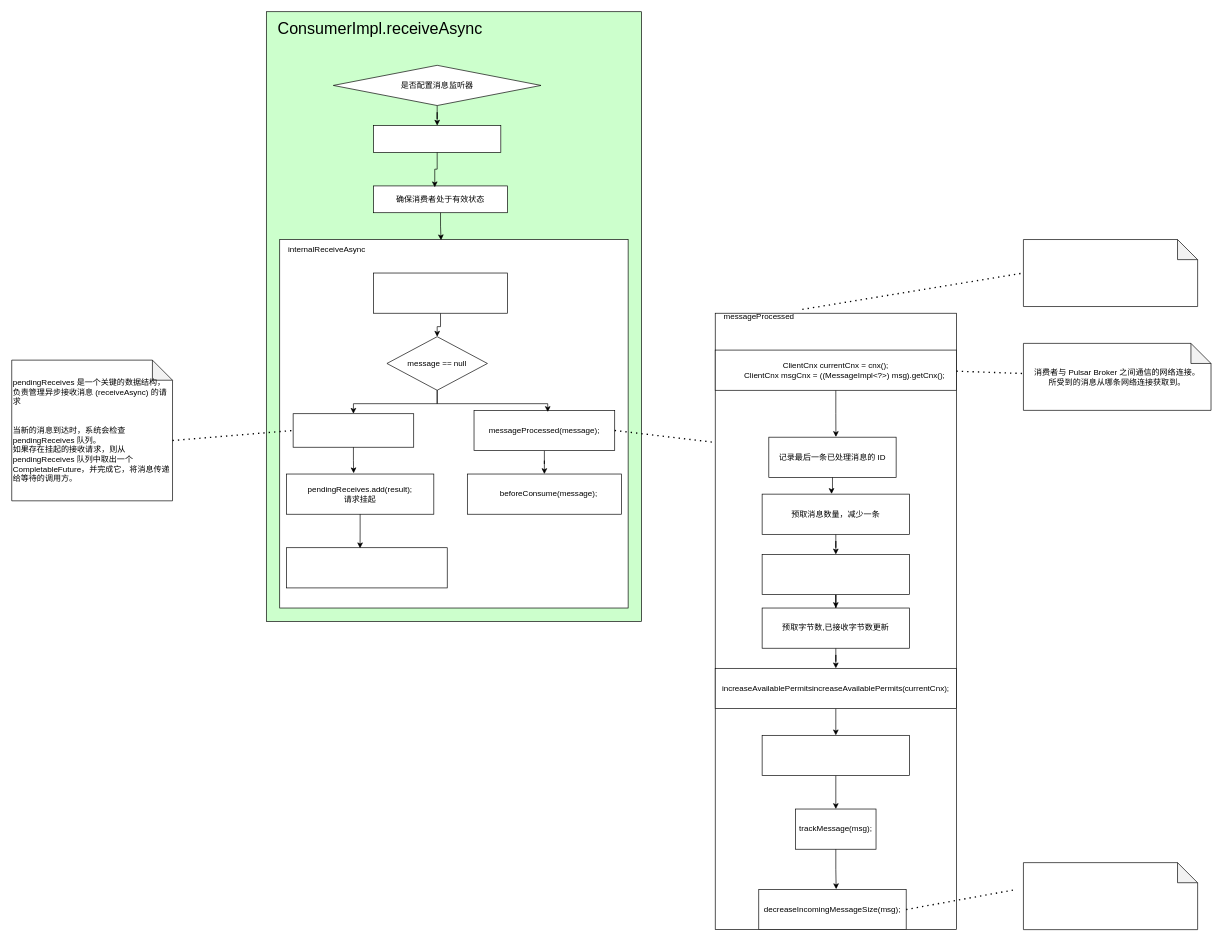
Some shapes in this 1223 by 941 pixel diagram are drawn without their labels. Here are the shapes that lost their labels. From the top down, the centre of each, then its label:
[437,138]: 避免消息处理方式的冲突
[440,292]: incomingMessages.poll() 取消息
[1110,273]: 负责记录应用程序已处理一条消息的事件。它通过更新相关的指标（如已处理的消息数量和字节数）和调整流控许可
[353,430]: expectMoreIncomingMessages
[366,567]: cancellationHandler.setCancelAction(() -> pendingReceives.remove(result));
[835,574]: 已接收消息计数器，增加一条
[835,755]: stats.updateNumMsgsReceived(msg) 更新msg状态
[1110,896]: 减少当前消费者接收队列中未处理消息的总字节数
